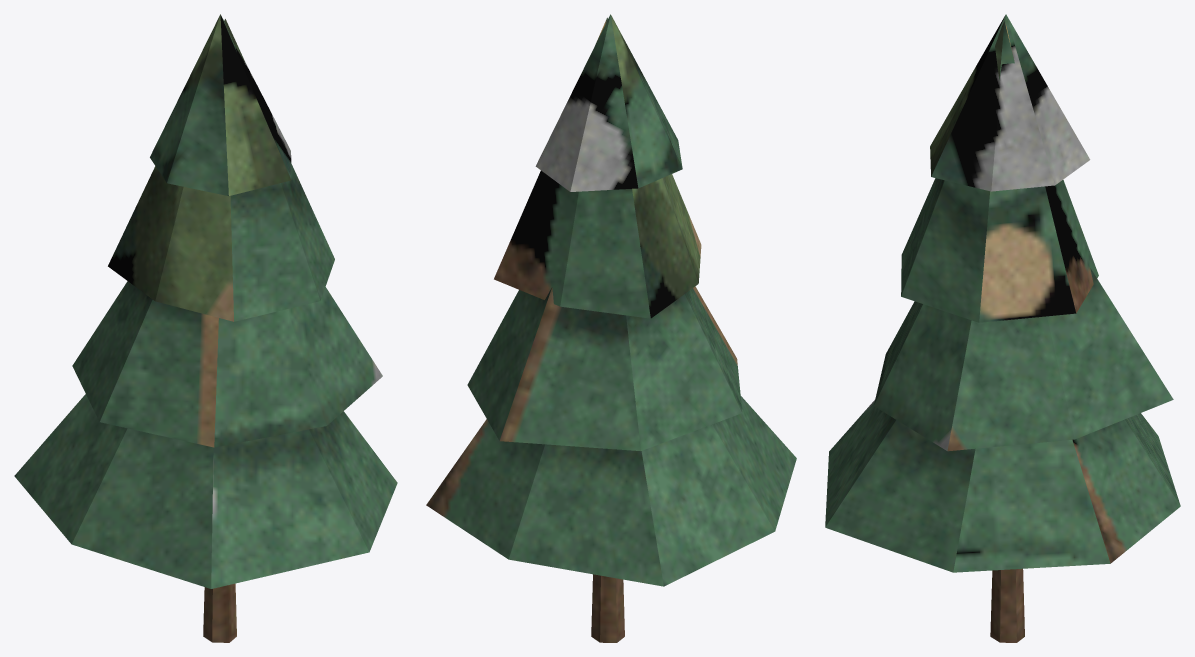
File: SM_Pine_Small_C.fbx
3 renders of one model, left to right at view 1: azimuth 30°, elevation 25°; view 2: azimuth 150°, elevation 25°; view 3: azimuth 270°, elevation 25°, orthographic.
Parts seen in each view (by area): view 1: SM_Pine_Small_C; view 2: SM_Pine_Small_C; view 3: SM_Pine_Small_C.
Boxes of the visible parts, <box> form: SM_Pine_Small_C: <box>14,14,397,642</box>; SM_Pine_Small_C: <box>426,14,796,642</box>; SM_Pine_Small_C: <box>825,14,1180,642</box>.
Bounding box in the file's own units: 413 × 800 × 414.
Materials: 1 (1 with a texture image).
